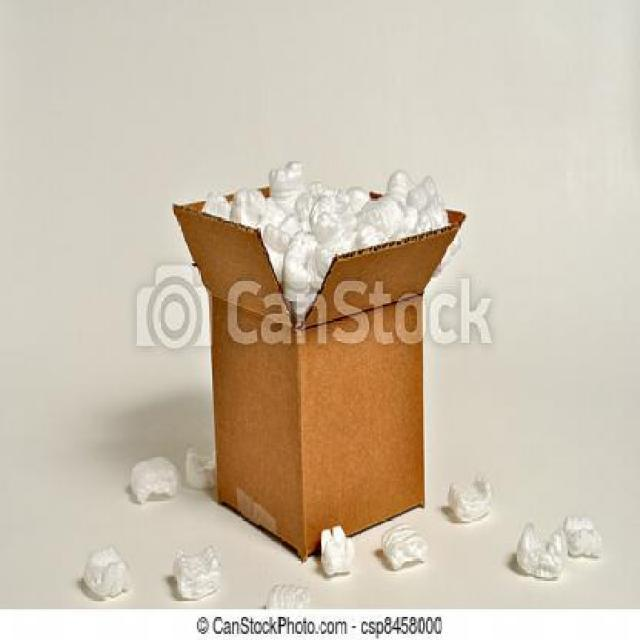box: (179, 190, 461, 560)
